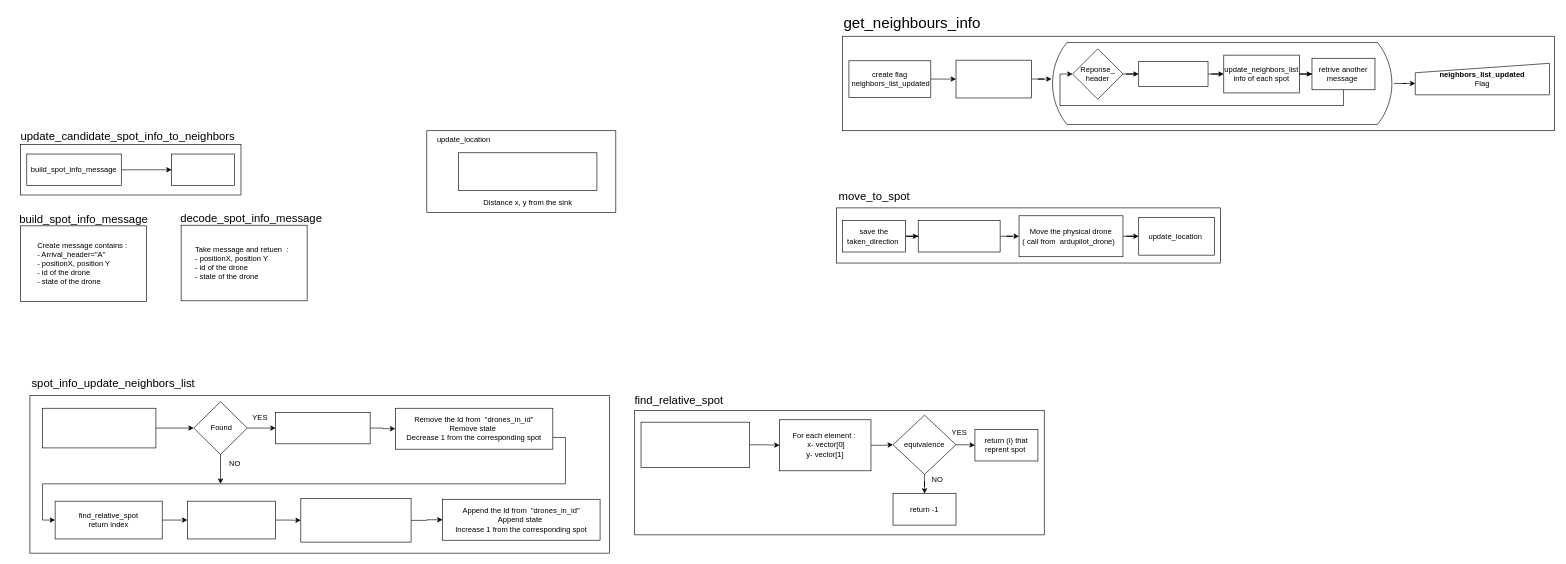
This 1566x564 diagram has some shape labels left out. Here are the shapes that lost their labels. From the top down, the box of each, then its label:
(955, 60, 1032, 98): wait until all msg arrives
(1138, 61, 1208, 87): Decode message
(171, 153, 235, 186): send_msg
(458, 152, 597, 191): PositionX= PositionX + x PositionY= PositionY + Y
(918, 220, 1000, 252): covert spot name to ( angle , distance)
(42, 408, 156, 448): Search in all the neighbors "drones_in_id" if the id is there
(275, 412, 370, 444): Find the index in "drones_in_id"
(640, 422, 750, 467): For each element (i) of DIR_xy_distance_VECTORS
(187, 501, 276, 539): Check the validity of index
(300, 498, 411, 542): enter the corresponding index in neighbor_list
